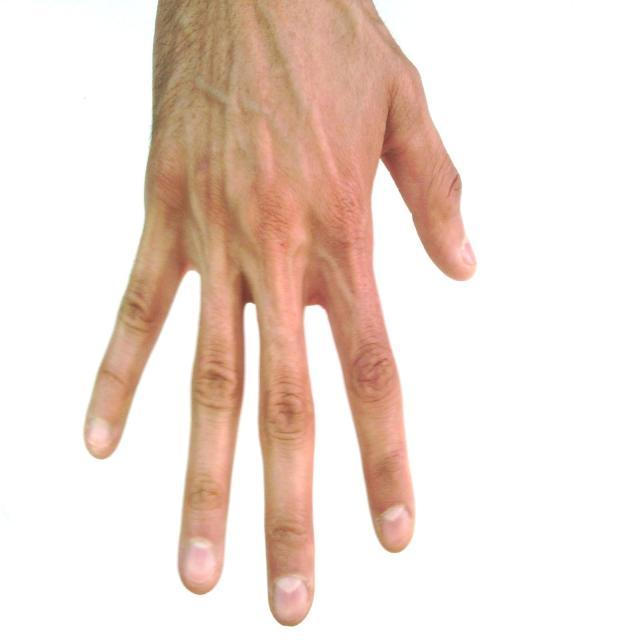Fingernail: (275, 577, 307, 623), (186, 542, 216, 581), (382, 507, 409, 545), (88, 422, 111, 448), (463, 243, 476, 266)
